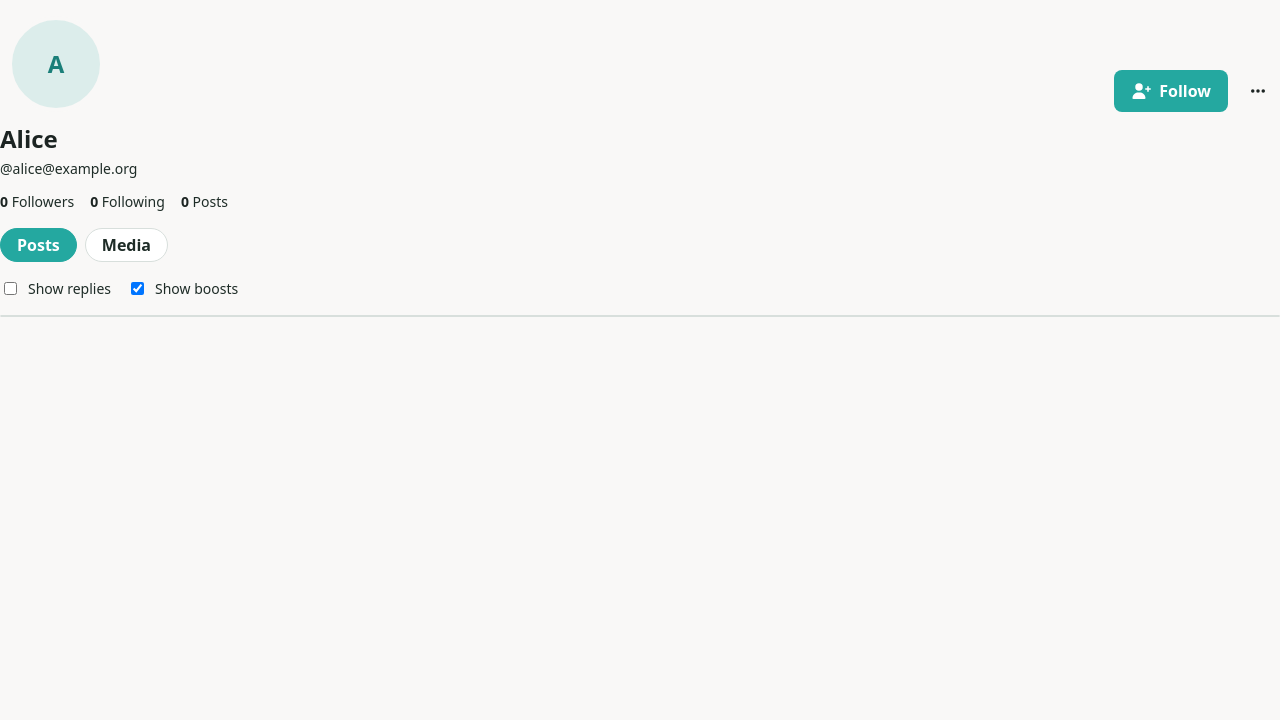
it: ProfilePage › points to list management when the viewer has no lists
The image size is (1280, 720).
What coordinates should you click on to do the following:
click the button with class "menu__trigger"
I would click on:
 (1258, 91)
Its box is x1=1236 y1=75 x2=1279 y2=107.
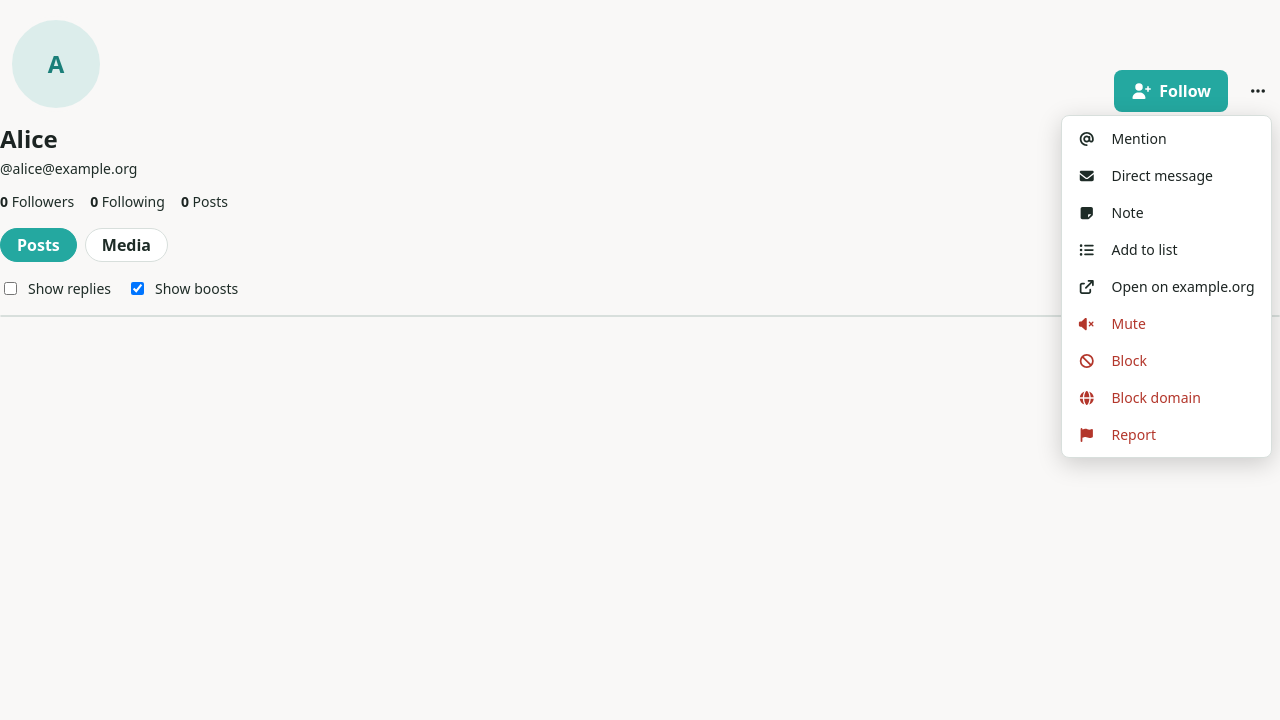
What coordinates should you click on to do the following:
click the menu item "Add to list"
I would click on:
 (1128, 250)
Its box is x1=1078 y1=240 x2=1178 y2=259.
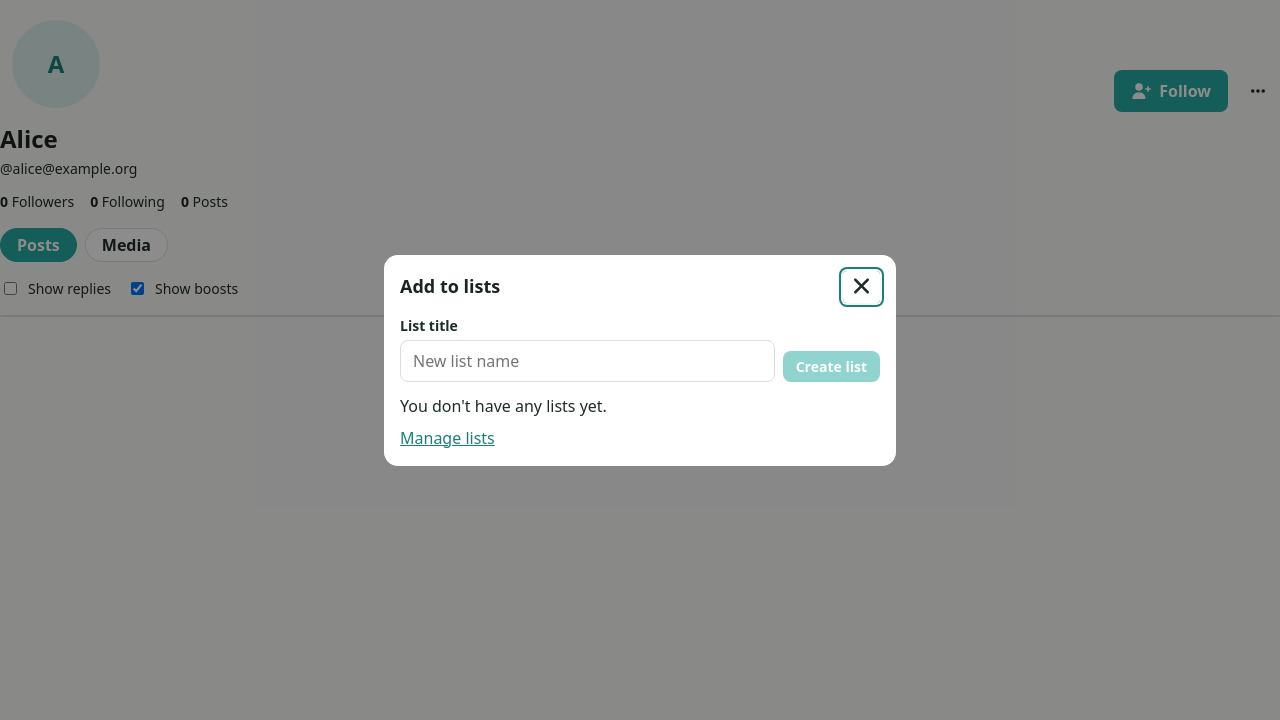
Check: the element showing "You don't have any lists yet. Manage lists" is shown, box x1=400 y1=394 x2=607 y2=448
